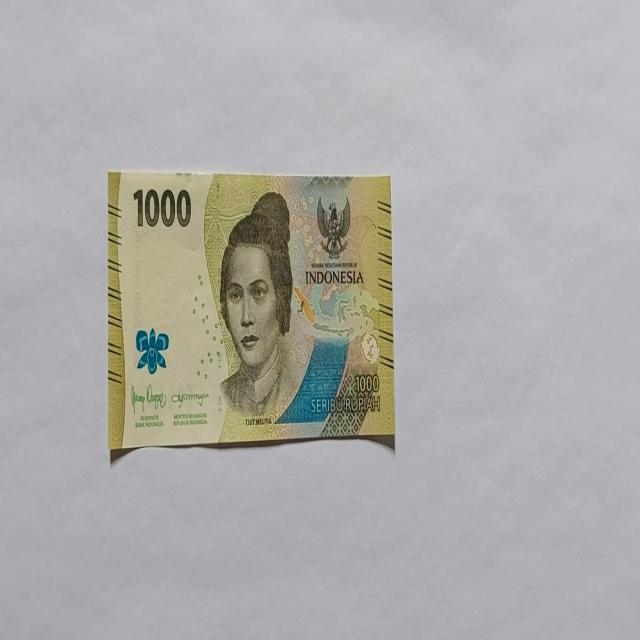seribu rupiah kertas: (106, 169, 394, 459)
